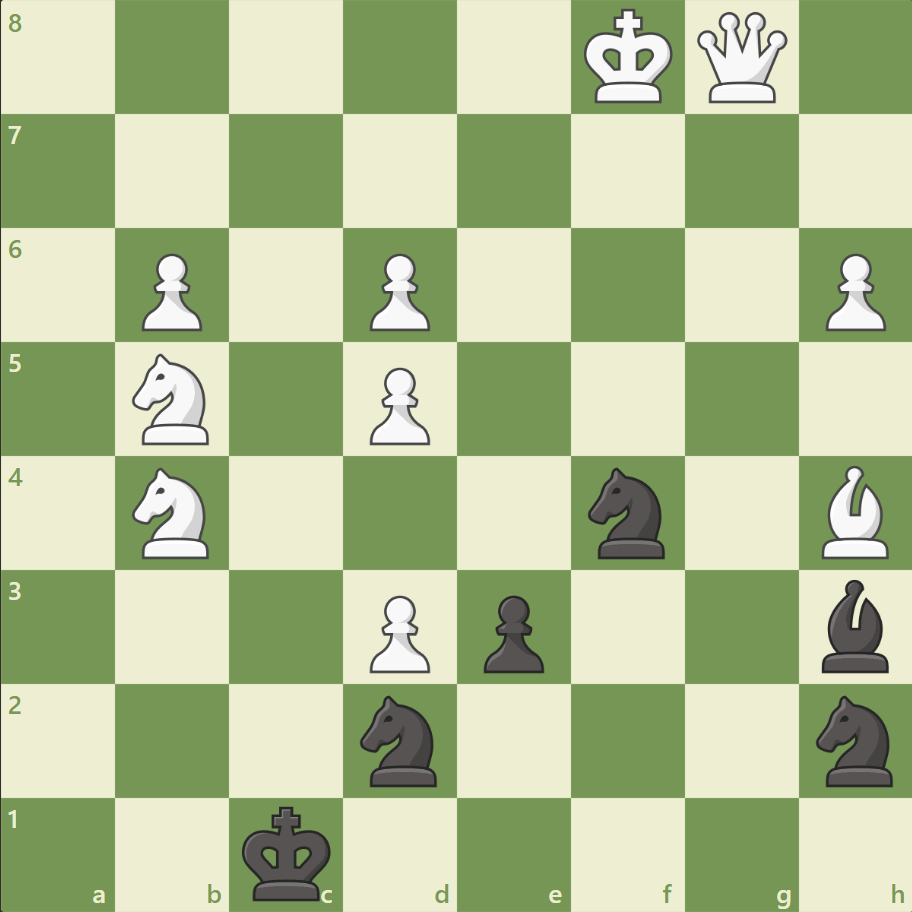B: (812, 460, 896, 563)
K: (579, 4, 679, 112)
N: (124, 461, 222, 564), (124, 348, 222, 450)
P: (133, 246, 208, 337), (361, 246, 435, 337), (815, 246, 889, 337), (361, 359, 435, 450), (361, 586, 435, 677)
Q: (691, 9, 790, 108)
b: (812, 574, 896, 676)
k: (238, 798, 338, 906)
n: (351, 688, 449, 791), (579, 461, 676, 564), (806, 688, 903, 791)
p: (474, 586, 549, 677)
